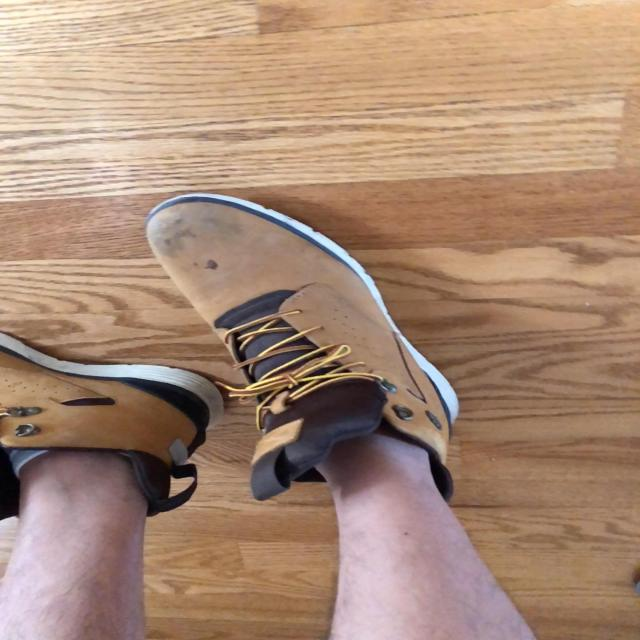shoe: (142, 200, 460, 511)
